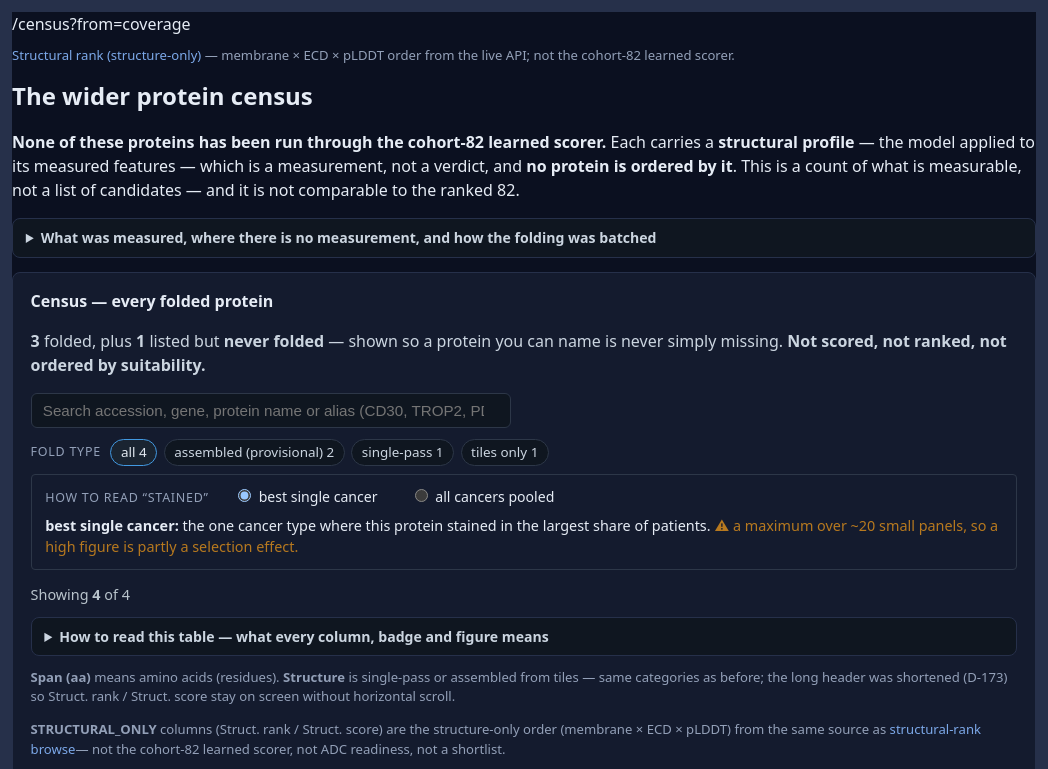
Test: D-135 — pressing a chip writes the address › leaves an unrelated query parameter alone
Click the button "assembled (provisional) 2": [254, 453] box [164,439,345,466]
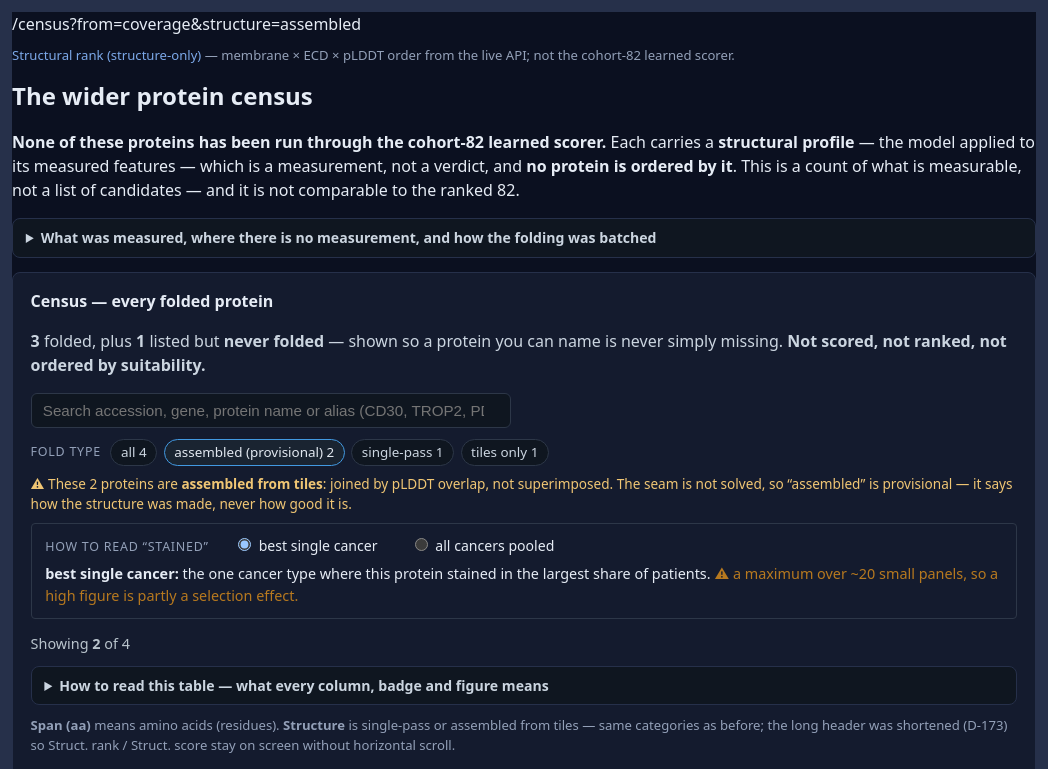
Expected: the text with test id "address" shows "from=coverage", [70,13,361,35]
Expected: the text with test id "address" shows "structure=assembled", [70,13,361,35]
